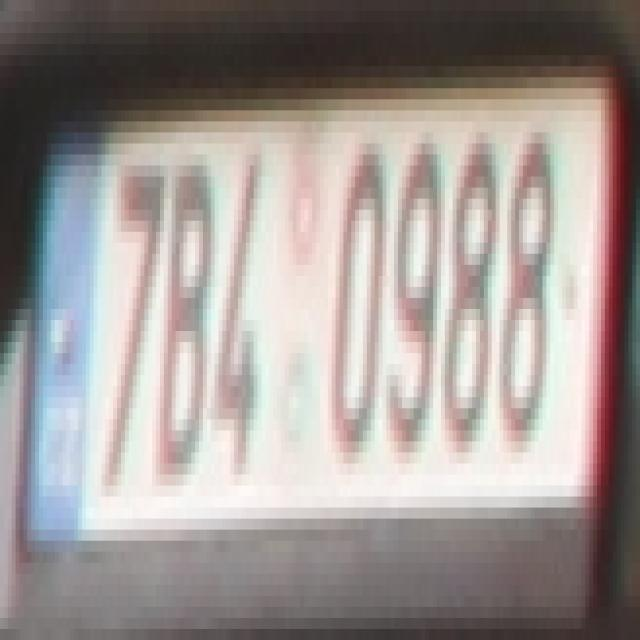0: (328, 132, 382, 452)
4: (210, 144, 258, 464)
7: (101, 144, 160, 496)
8: (444, 132, 500, 442), (504, 110, 554, 430)
9: (386, 144, 437, 464)
B: (160, 154, 210, 474)
